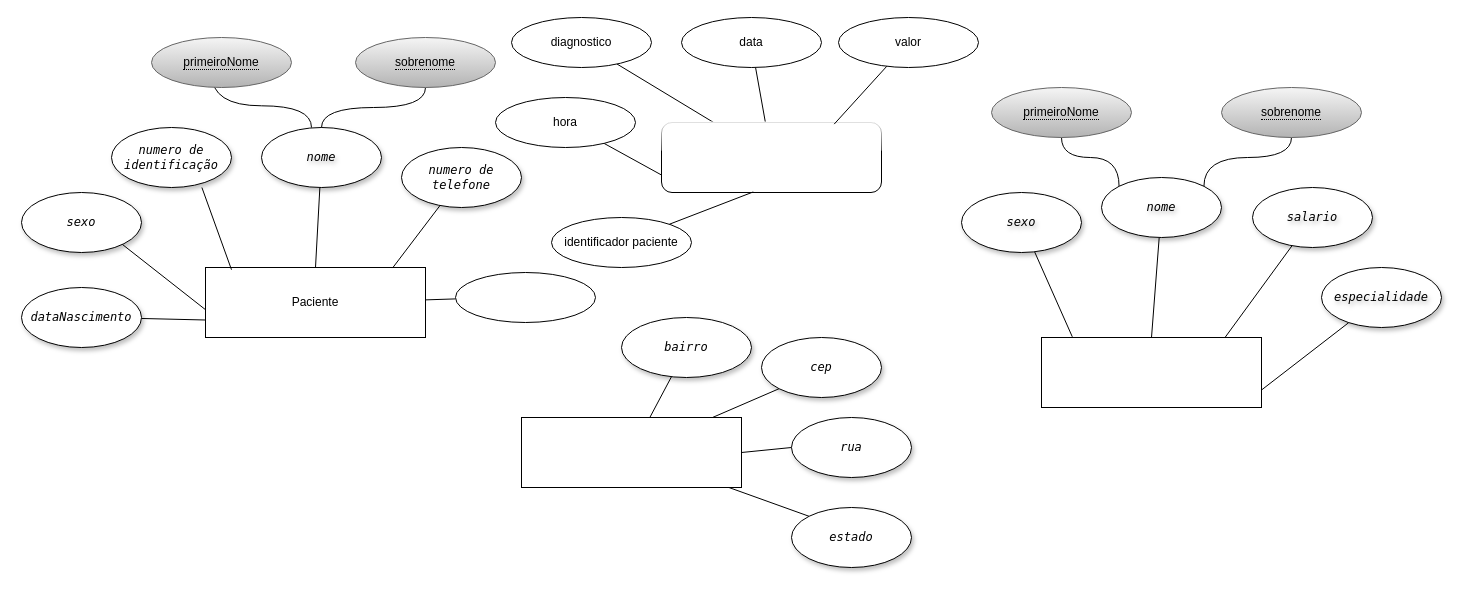
The diagram is 1465 pixels wide and 592 high, and some of its shapes have lost their labels. The centre of each missing label's shape, as x and y in pixels:
consulta: the point at 771,157
endereço: the point at 631,452
identificador endereço: the point at 525,297
medico: the point at 1151,372
